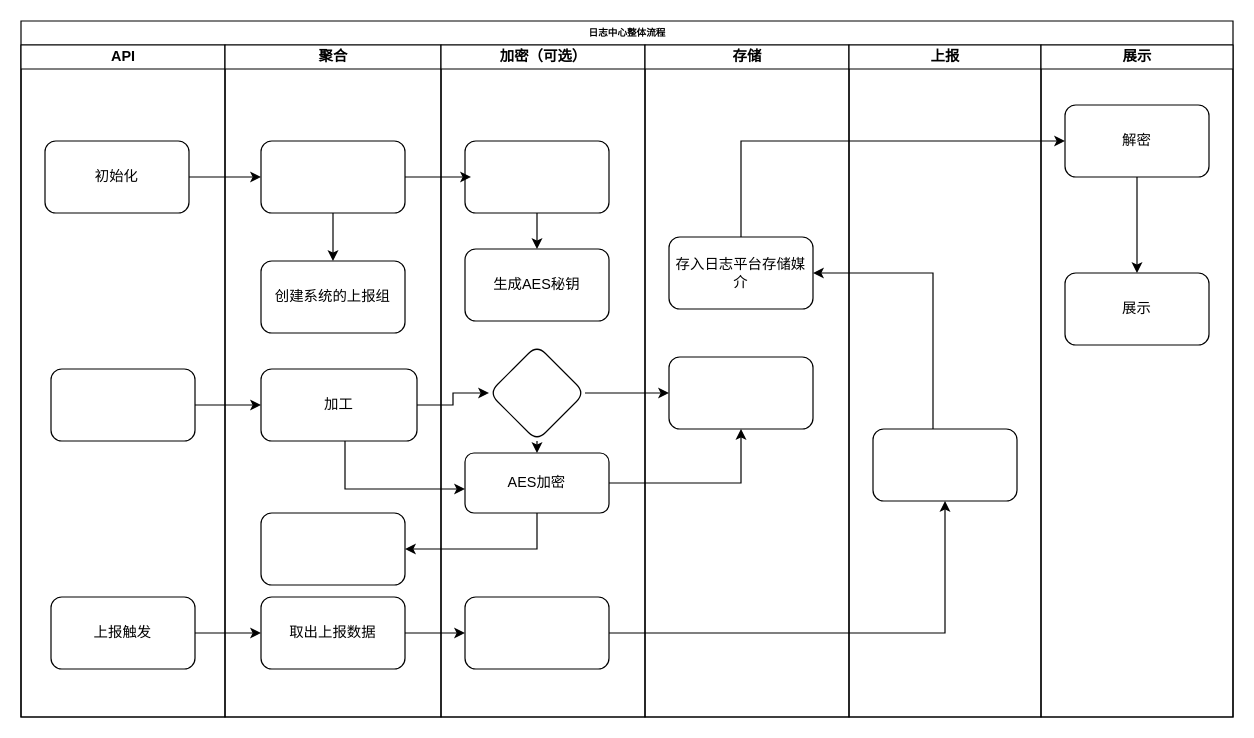
This 1254x738 diagram has some shape labels left out. Here are the shapes that lost their labels. From the top down, the centre of each, then its label:
At (x=332, y=176): "创建LogCollector".
At (x=536, y=176): "获取ECDH秘钥".
At (x=122, y=404): "写日志".
At (x=536, y=392): "是否加密".
At (x=740, y=392): "存储落盘".
At (x=944, y=464): "加入上报管道".
At (x=332, y=548): "加入日志上报组".
At (x=536, y=632): "带上ECDH公钥".
